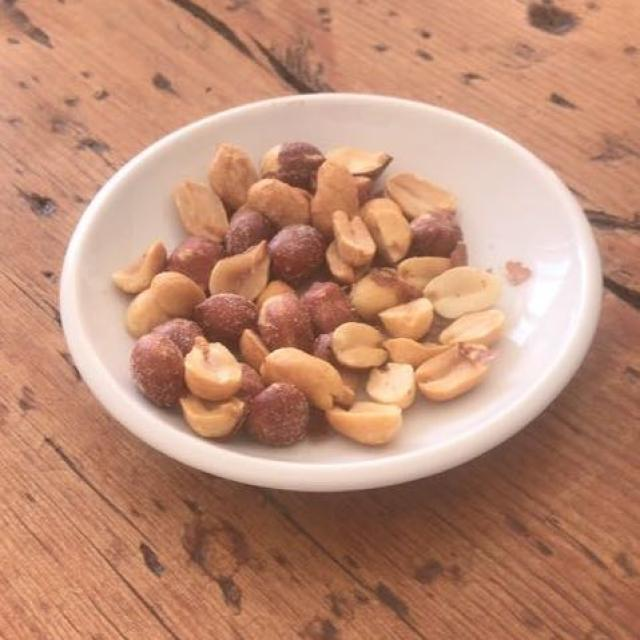nut: (122, 149, 507, 439)
